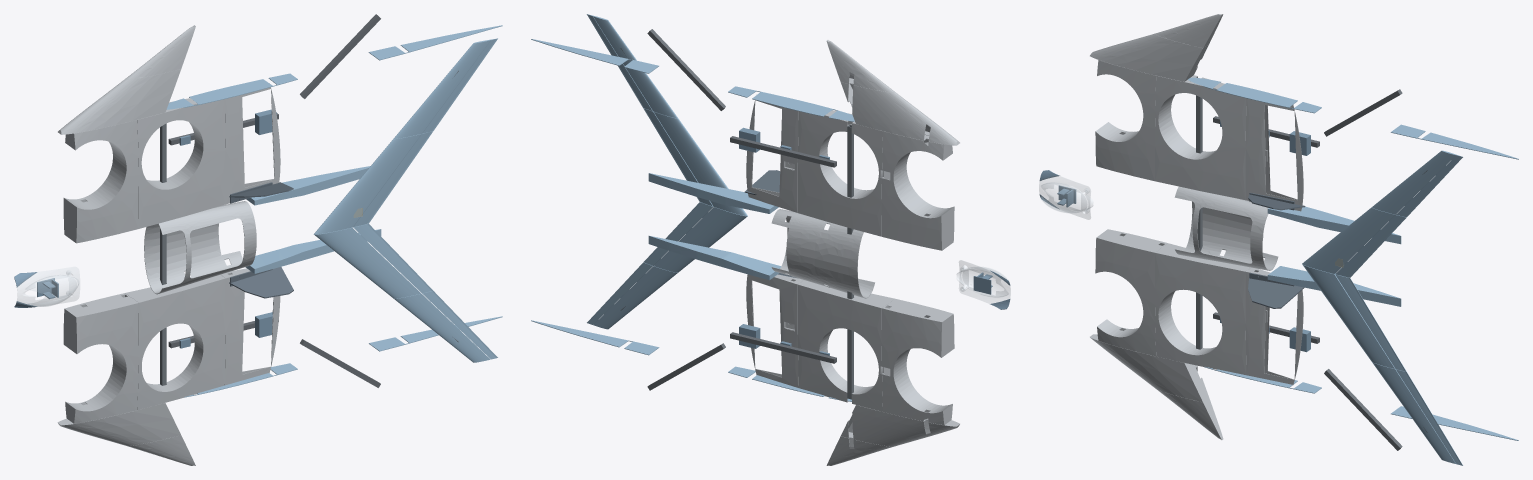
Rendered from v19g_gyr_crest.glb.
3 views of the same model, side by side, from view 1: azimuth 30°, elevation 25°; view 2: azimuth 150°, elevation 25°; view 3: azimuth 330°, elevation 25° (orthographic). The views are drawn at different scales.
Visible parts, largest first — view 1: WLC_hollow_wing, WRC_hollow_wing, WLB_hollow_wing, F3_hollow_body, WRB_hollow_wing, WRE1_falcon_wing, WLE1_falcon_wing, NEW_crest_R1, WRD_hollow_wing, NEW_crest_L1, WLD_hollow_wing, NEW_crest_R2 (+19 smaller); view 2: WLC_hollow_wing, WRC_hollow_wing, WLB_hollow_wing, WRB_hollow_wing, F3_hollow_body, WRE1_falcon_wing, WLE1_falcon_wing, WLD_hollow_wing, WRD_hollow_wing, NEW_F5_root_fairing_L, NEW_crest_R1, NEW_crest_L1 (+19 smaller); view 3: WLC_hollow_wing, WRC_hollow_wing, F3_hollow_body, WLB_hollow_wing, WRB_hollow_wing, WRE1_falcon_wing, WRD_hollow_wing, WLE1_falcon_wing, WLD_hollow_wing, NEW_crest_R1, NEW_crest_L1, NEW_canopy_clear_PETG (+19 smaller).
Part boxes in pixels (left/top/right/bottom): WLC_hollow_wing: left=125, top=274, right=225, bottom=409; WRC_hollow_wing: left=137, top=98, right=225, bottom=228; WLB_hollow_wing: left=63, top=293, right=138, bottom=423; F3_hollow_body: left=144, top=201, right=256, bottom=294; WRB_hollow_wing: left=63, top=120, right=138, bottom=243; WRE1_falcon_wing: left=58, top=69, right=181, bottom=134; WLE1_falcon_wing: left=57, top=403, right=180, bottom=445; NEW_crest_R1: left=314, top=134, right=421, bottom=234; WRD_hollow_wing: left=225, top=83, right=280, bottom=204; NEW_crest_L1: left=314, top=227, right=420, bottom=298; WLD_hollow_wing: left=221, top=268, right=280, bottom=385; NEW_crest_R2: left=393, top=39, right=490, bottom=138; WLC_hollow_wing: left=798, top=280, right=894, bottom=411; WRC_hollow_wing: left=798, top=110, right=883, bottom=236; WLB_hollow_wing: left=881, top=298, right=954, bottom=425; WRB_hollow_wing: left=881, top=131, right=954, bottom=250; F3_hollow_body: left=771, top=209, right=874, bottom=298; WRE1_falcon_wing: left=840, top=82, right=959, bottom=145; WLE1_falcon_wing: left=841, top=405, right=959, bottom=446; WLD_hollow_wing: left=746, top=274, right=803, bottom=387; WRD_hollow_wing: left=746, top=100, right=798, bottom=212; NEW_F5_root_fairing_L: left=648, top=235, right=780, bottom=280; NEW_crest_R1: left=654, top=112, right=747, bottom=215; NEW_crest_L1: left=654, top=207, right=747, bottom=272; WLC_hollow_wing: left=1155, top=243, right=1250, bottom=374; WRC_hollow_wing: left=1155, top=75, right=1246, bottom=200; F3_hollow_body: left=1174, top=186, right=1278, bottom=270; WLB_hollow_wing: left=1095, top=229, right=1167, bottom=356; WRB_hollow_wing: left=1095, top=60, right=1156, bottom=181; WRE1_falcon_wing: left=1090, top=33, right=1208, bottom=81; WRD_hollow_wing: left=1245, top=98, right=1303, bottom=211; WLE1_falcon_wing: left=1090, top=334, right=1209, bottom=402; WLD_hollow_wing: left=1245, top=267, right=1303, bottom=384; NEW_crest_R1: left=1302, top=207, right=1395, bottom=273; NEW_crest_L1: left=1302, top=264, right=1395, bottom=368; NEW_canopy_clear_PETG: left=1039, top=175, right=1093, bottom=219.
Bounding box in the file's own units: 1114 × 954 × 146.
